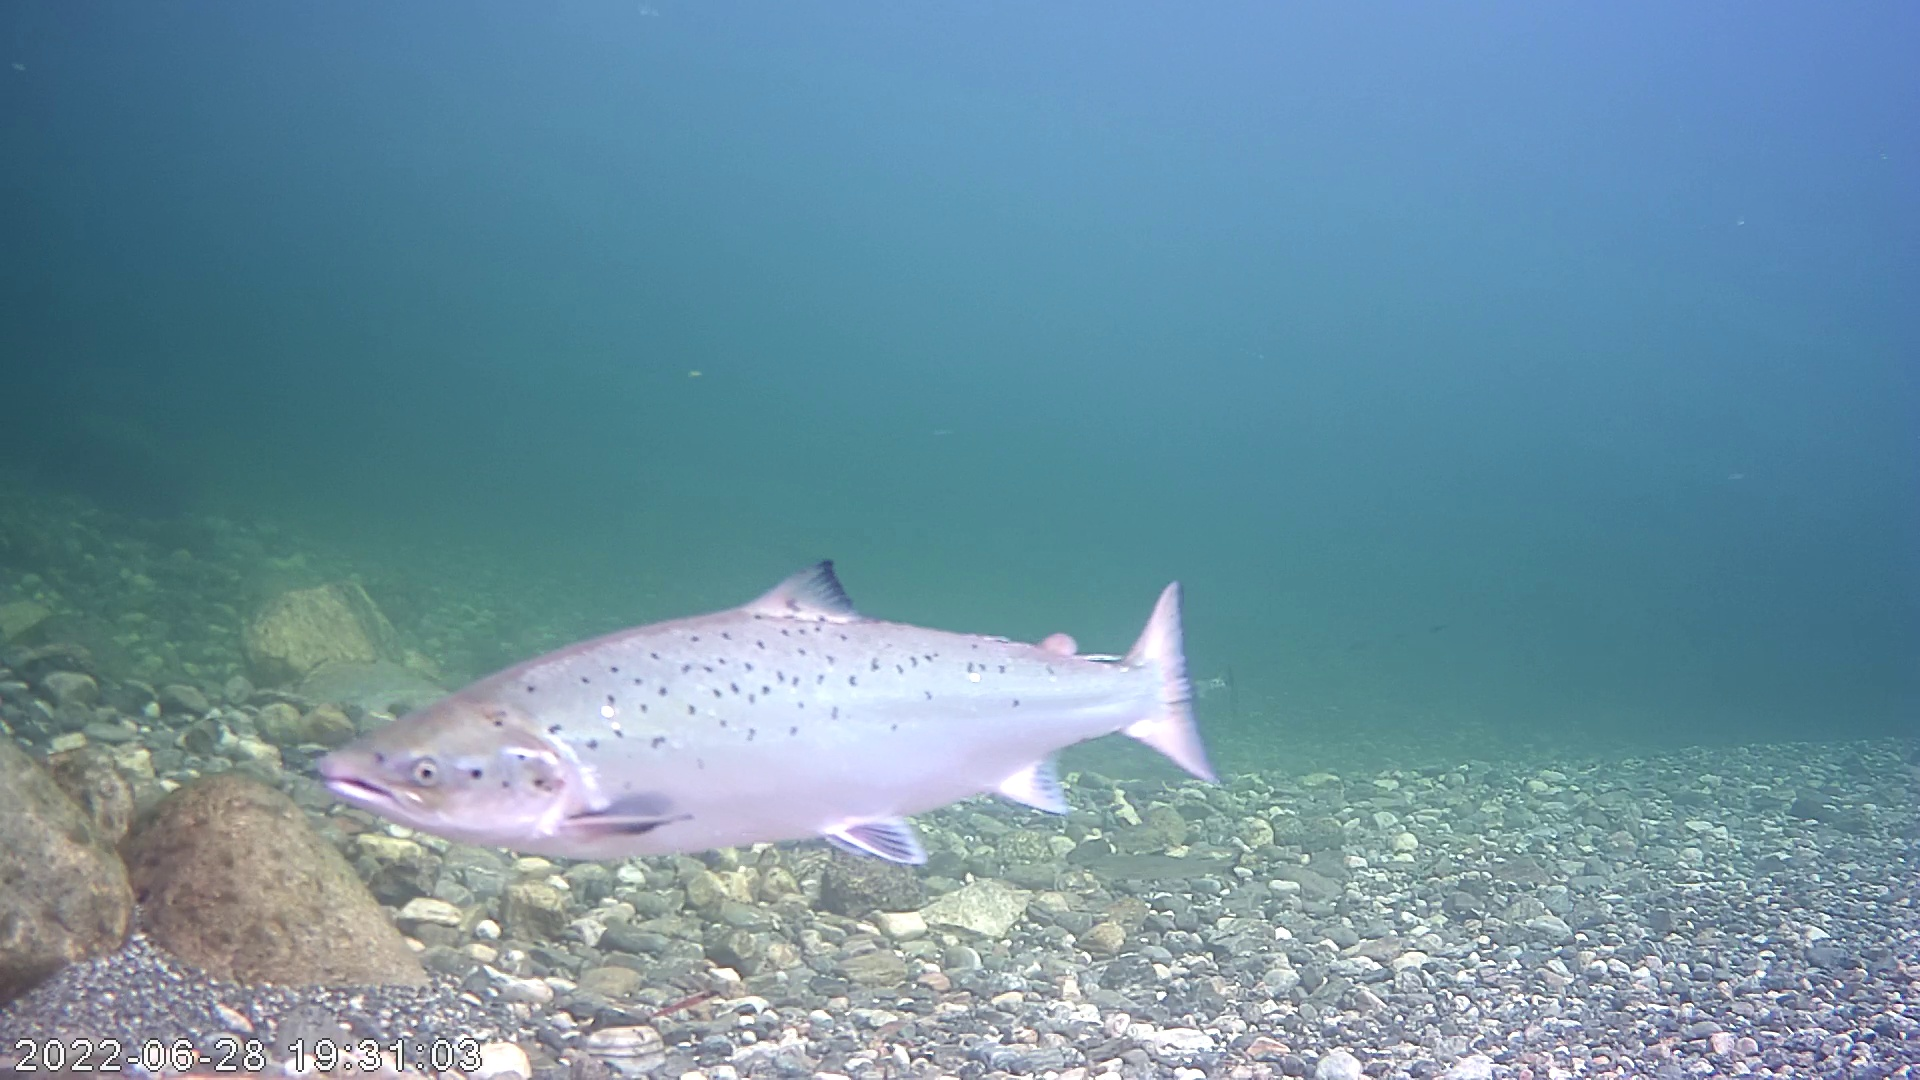salmon: (313, 508, 1247, 885)
